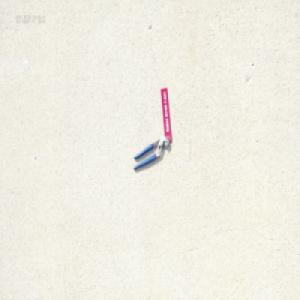Label: (160, 87, 172, 141)
Pliers: (133, 134, 169, 170)
